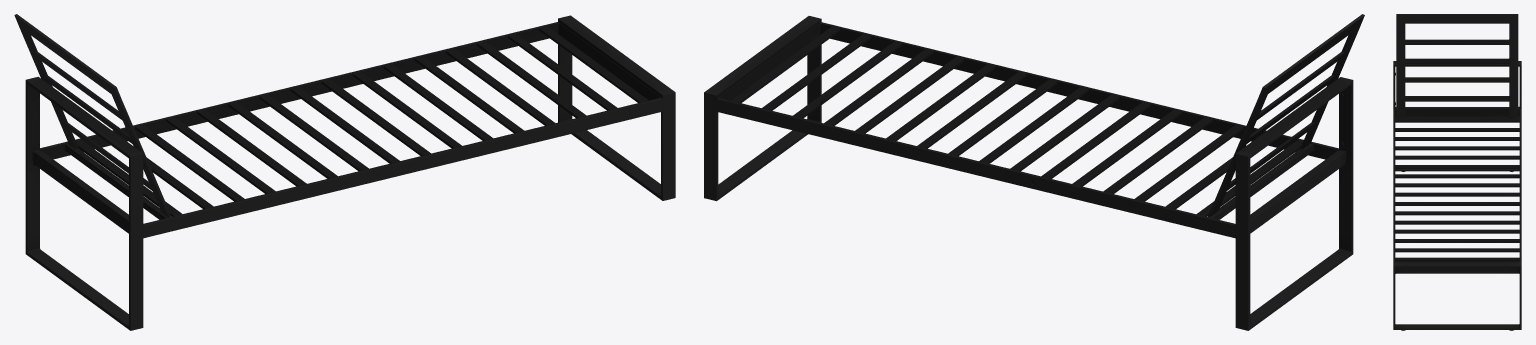
Rendered from MeridaDaybed01_Frame.glb.
The picture shows the model from 3 angles, left to right: view 1: azimuth 30°, elevation 25°; view 2: azimuth 150°, elevation 25°; view 3: azimuth 270°, elevation 25°; orthographic projection. The views are drawn at different scales.
Visible parts, largest first — view 1: merida-daybed-body-metal.001; view 2: merida-daybed-body-metal.001; view 3: merida-daybed-body-metal.001.
Part boxes in pixels (x1=…): merida-daybed-body-metal.001: x1=14, y1=14, x2=675, y2=330; merida-daybed-body-metal.001: x1=704, y1=14, x2=1364, y2=330; merida-daybed-body-metal.001: x1=1393, y1=14, x2=1521, y2=329.
Bounding box in the file's own units: 1.84 × 0.7774 × 0.5972.
2 materials, 2 textured.
